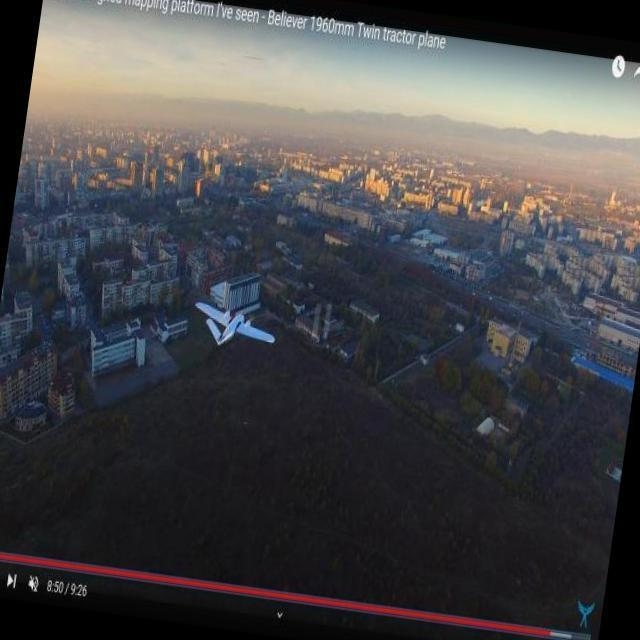iha: (218, 302, 256, 339)
